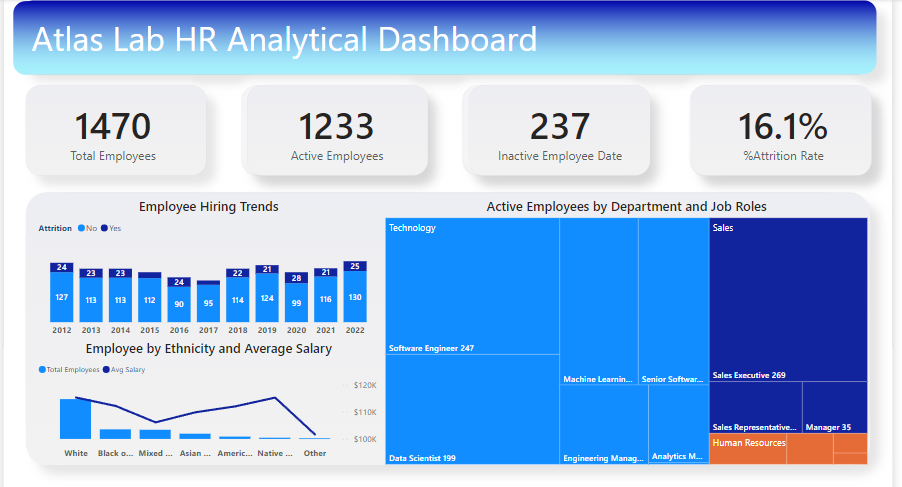

This screenshot's page, from the dashboard's own definition file:
{"tool":"powerbi","page":{"name":"Overview","canvas":[1280,720],"ordinal":0},"visuals":[{"type":"card","fields":{"Values":["_Measures.Total Employees"]},"box":[57.6,131,198.7,118.1],"z":0},{"type":"columnChart","title":"Employee Hiring Trends","fields":{"Y":["_Measures.Total Employee Date"],"Category":["Dim_Date.Date.Variation.Date Hierarchy.Year","Dim_Date.Date.Variation.Date Hierarchy.Quarter","Dim_Date.Date.Variation.Date Hierarchy.Month","Dim_Date.Date.Variation.Date Hierarchy.Day"],"Series":["Dim_Employee.Attrition"]},"box":[45,285,500,210.2],"z":1000},{"type":"treemap","title":"Active Employees by Department and Job Roles","fields":{"Group":["Dim_Employee.Department"],"Values":["_Measures.Active Employees"],"Details":["Dim_Employee.JobRole"]},"box":[544,285.1,704.2,390],"z":3000},{"type":"card","fields":{"Values":["_Measures.Active Employees"]},"box":[379.7,131,198.7,118.1],"z":3001},{"type":"card","fields":{"Values":["_Measures.%Attrition Rate"]},"box":[1023.8,131,197.3,118.1],"z":3002},{"type":"card","fields":{"Values":["_Measures.Inactive Employee Date"]},"box":[701.8,131,198.7,118.1],"z":3003},{"type":"lineStackedColumnComboChart","title":"Employee by Ethnicity and Average Salary","fields":{"Category":["Dim_Employee.Ethnicity"],"Y2":["_Measures.Avg Salary"],"Y":["_Measures.Total Employees"]},"box":[45,490,500,178.6],"z":3004},{"type":"textbox","box":[34.6,17.3,800,100],"z":3005}]}

Visuals, with their boxes on the page's 1280x720 design canvas (x1, y1, x2, y2). These are canvas units, not pixel positions in the 902x487 screenshot, which may show the page scaled, cropped or inside an application window:
card - _Measures.Total Employees: {"x1": 58, "y1": 131, "x2": 256, "y2": 249}
"Employee Hiring Trends" columnChart: {"x1": 45, "y1": 285, "x2": 545, "y2": 495}
"Active Employees by Department and Job Roles" treemap: {"x1": 544, "y1": 285, "x2": 1248, "y2": 675}
card - _Measures.Active Employees: {"x1": 380, "y1": 131, "x2": 578, "y2": 249}
card - _Measures.%Attrition Rate: {"x1": 1024, "y1": 131, "x2": 1221, "y2": 249}
card - _Measures.Inactive Employee Date: {"x1": 702, "y1": 131, "x2": 900, "y2": 249}
"Employee by Ethnicity and Average Salary" lineStackedColumnComboChart: {"x1": 45, "y1": 490, "x2": 545, "y2": 669}
textbox: {"x1": 35, "y1": 17, "x2": 835, "y2": 117}
